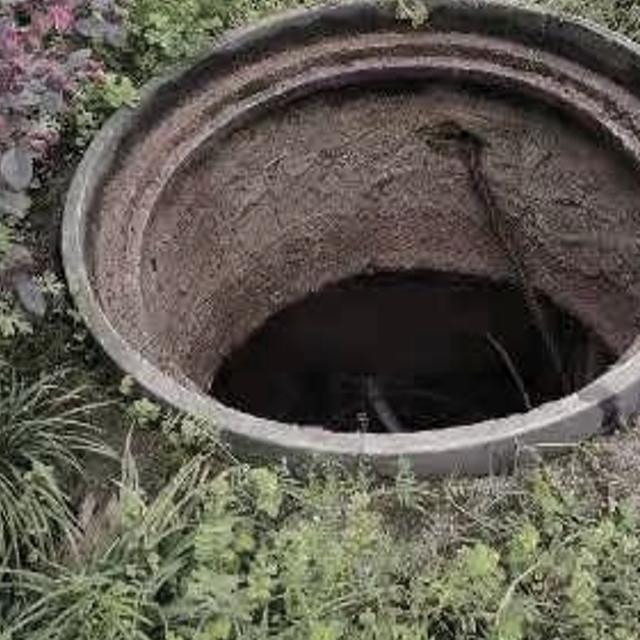lose: (56, 0, 640, 466)
